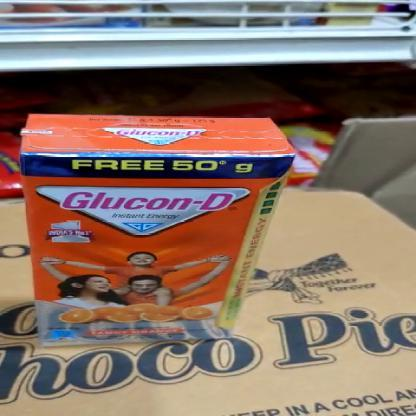Glucon D Tangy orange 1-KG: (23, 156, 276, 339)
